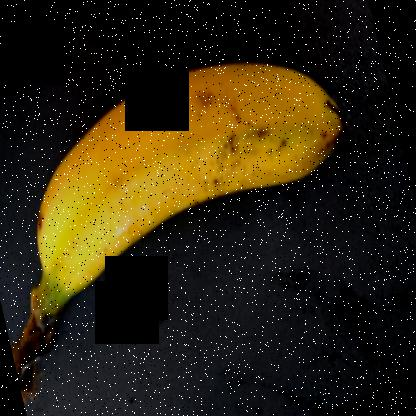ripe: (34, 49, 348, 306)
